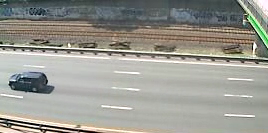car: (6, 69, 51, 95)
